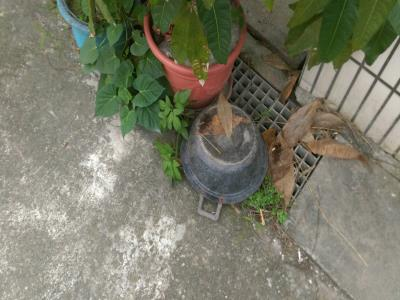bowl: (177, 103, 270, 205)
